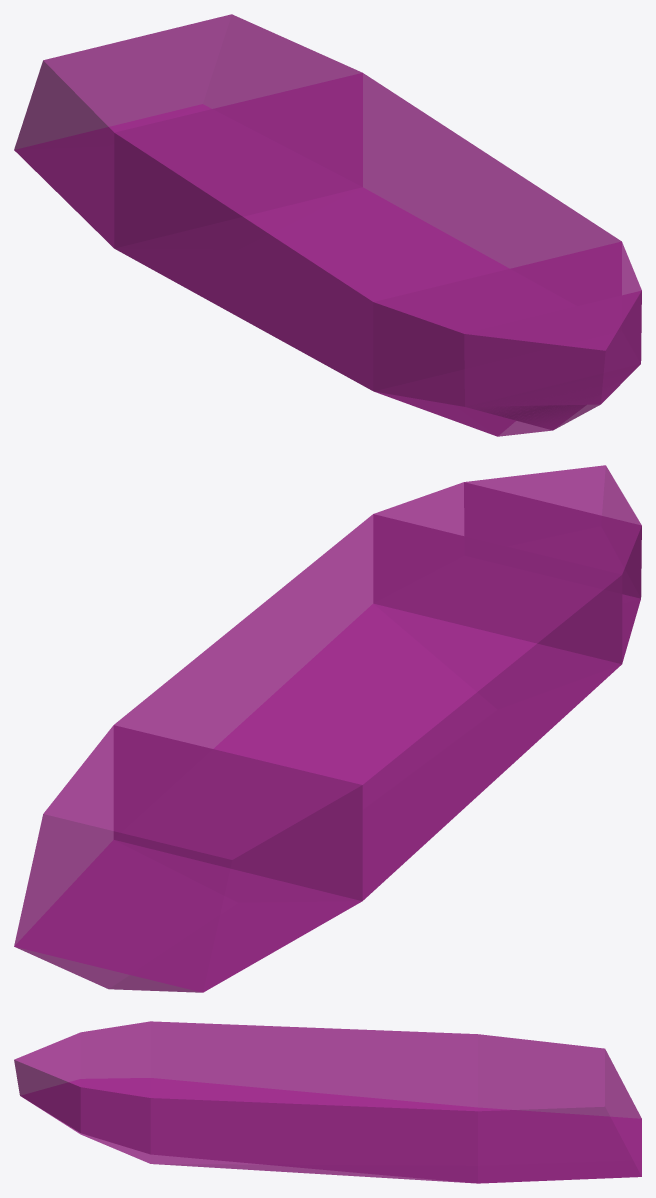
Rendered from SM_Veh_Power_Boat_01_Collision.fbx.
3 views of the same model, one above another, from view 1: azimuth 30°, elevation 25°; view 2: azimuth 150°, elevation 25°; view 3: azimuth 270°, elevation 25° (orthographic). The views are drawn at different scales.
Visible parts, largest first — view 1: SM_Veh_Power_Boat_01_Collision; view 2: SM_Veh_Power_Boat_01_Collision; view 3: SM_Veh_Power_Boat_01_Collision.
Boxes of the visible parts, x1=… form: SM_Veh_Power_Boat_01_Collision: x1=14, y1=14, x2=641, y2=436; SM_Veh_Power_Boat_01_Collision: x1=14, y1=465, x2=641, y2=992; SM_Veh_Power_Boat_01_Collision: x1=14, y1=1021, x2=641, y2=1183.
Size of the model in its own units: 293 by 189 by 1014.
